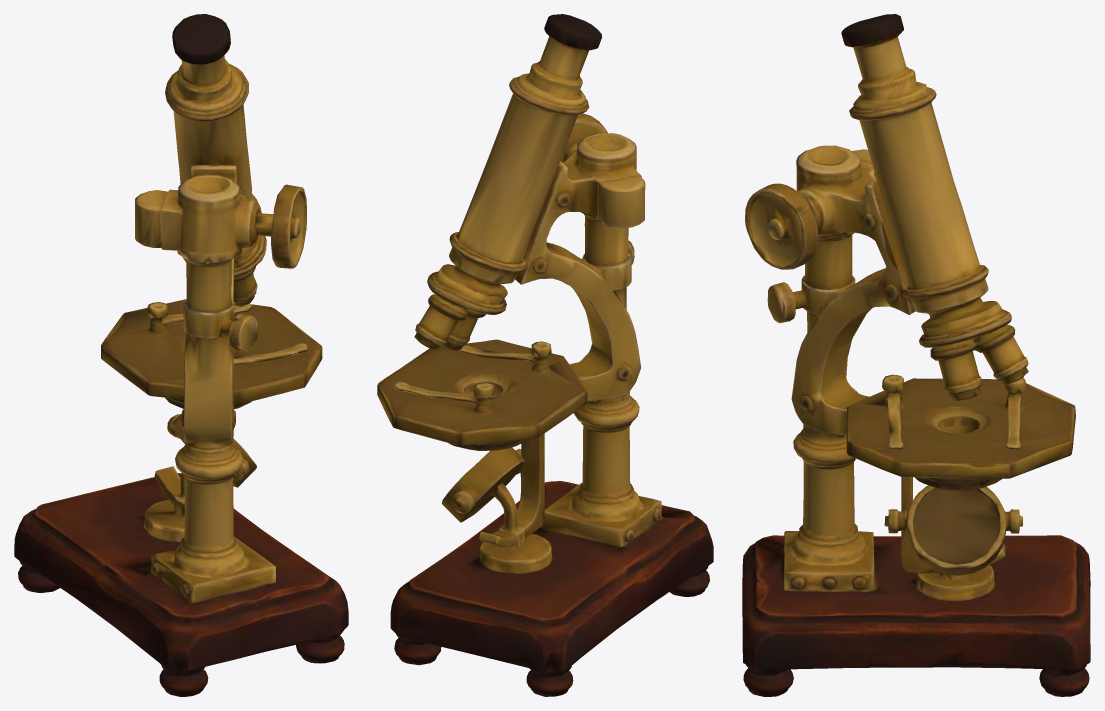
File: science.glb
The picture shows the model from 3 angles, left to right: view 1: azimuth 30°, elevation 25°; view 2: azimuth 150°, elevation 25°; view 3: azimuth 270°, elevation 25°; orthographic projection. The views are drawn at different scales.
Visible parts, largest first — view 1: tripo_node_6a05e245-d444-42cf-a44f-12cf115fe46a; view 2: tripo_node_6a05e245-d444-42cf-a44f-12cf115fe46a; view 3: tripo_node_6a05e245-d444-42cf-a44f-12cf115fe46a.
Boxes of the visible parts, x1,y1,x2,y2 form: tripo_node_6a05e245-d444-42cf-a44f-12cf115fe46a: (14,14,348,696); tripo_node_6a05e245-d444-42cf-a44f-12cf115fe46a: (377,14,713,696); tripo_node_6a05e245-d444-42cf-a44f-12cf115fe46a: (742,14,1090,696).
Size of the model in its own units: 0.3875 by 1 by 0.4932.
1 material, 1 textured.
